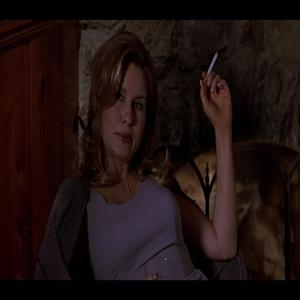cigarette: (208, 50, 218, 76)
